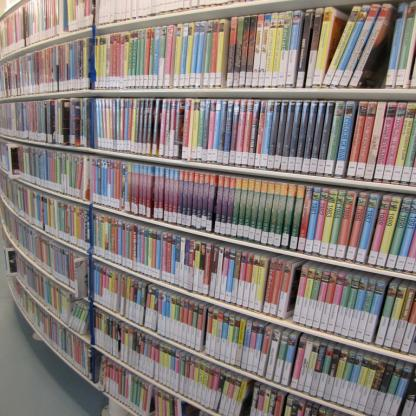book: (18, 1, 416, 416), (0, 0, 20, 298)
